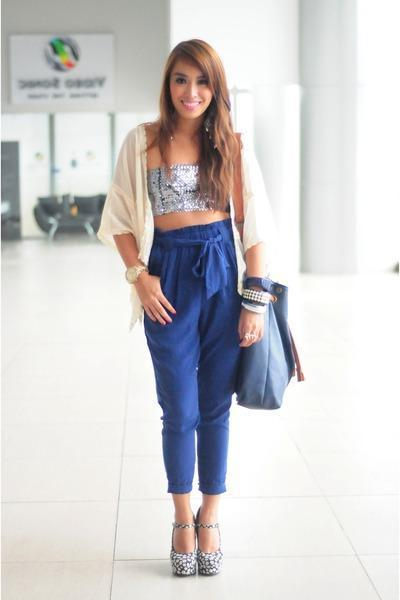short sleeve shirt: (98, 118, 275, 330)
trousers: (143, 215, 246, 498)
vest: (145, 155, 237, 221)
